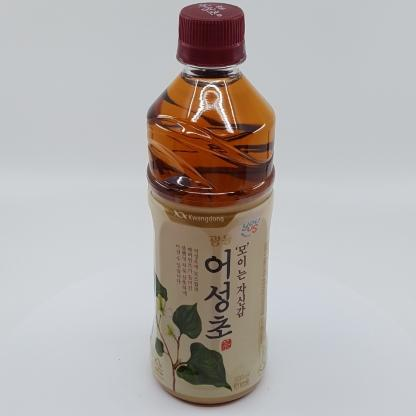--------500ml: (146, 3, 276, 404)
